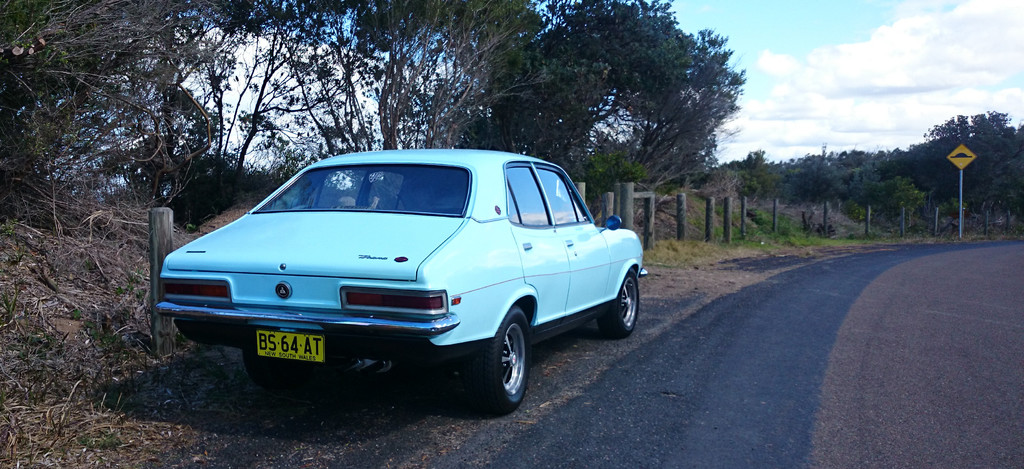cars: (157, 143, 653, 418)
